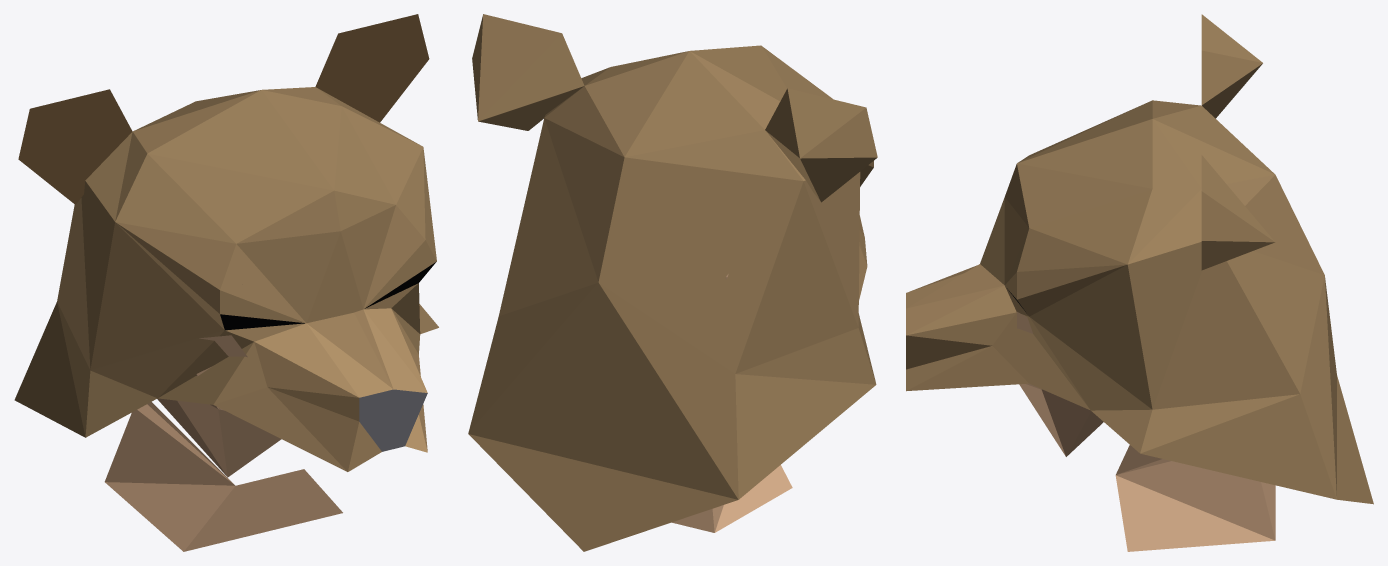
Rendered from player_bearhead.glb.
The picture shows the model from 3 angles, left to right: view 1: azimuth 30°, elevation 25°; view 2: azimuth 150°, elevation 25°; view 3: azimuth 270°, elevation 25°; orthographic projection. The views are drawn at different scales.
Size of the model in its own units: 36 by 37.01 by 37.99.
Materials: 1 (1 with a texture image).
